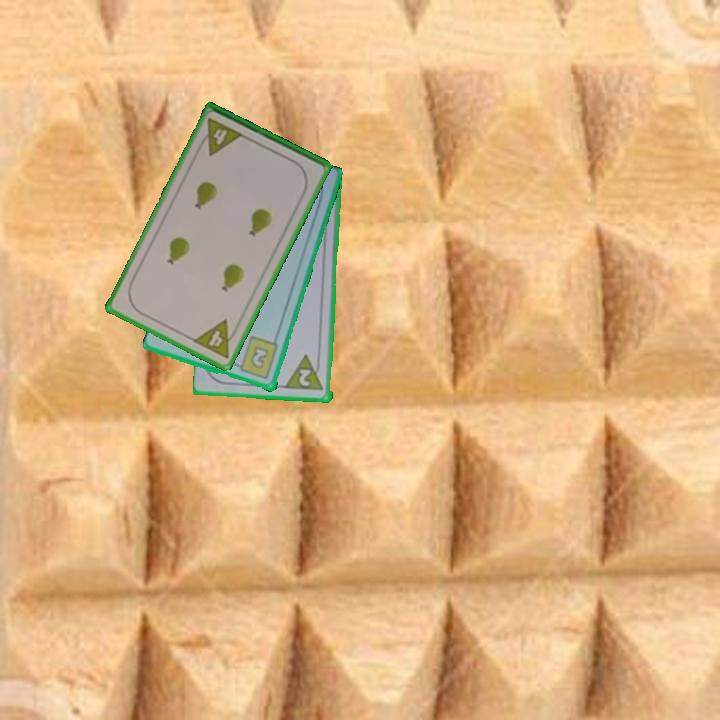2b: (231, 333, 281, 382)
2p: (295, 366, 314, 389)
4p: (189, 316, 242, 362), (195, 114, 246, 159)
